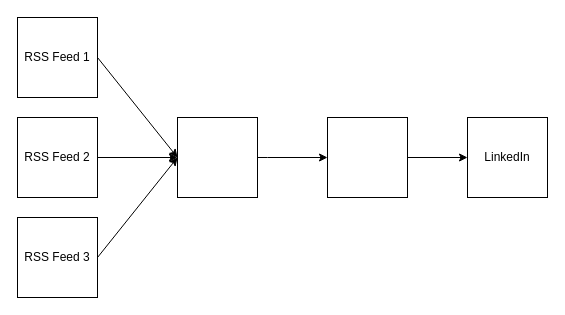
Image size: 565x315. Some labels were removed from this diagram. The shapes that lost their labels are listed below. From the top down, each one's centre as x and y in pixels, then its label:
At (217,157): "Text Generator".
At (367,157): "Image Generator".
